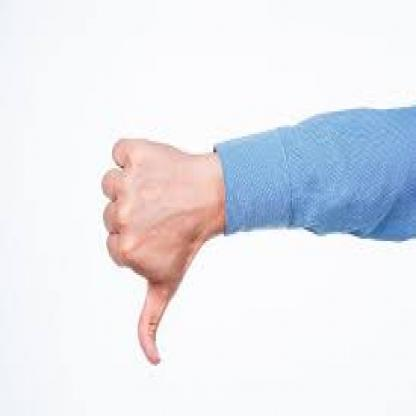thumb_down: (102, 131, 204, 368)
